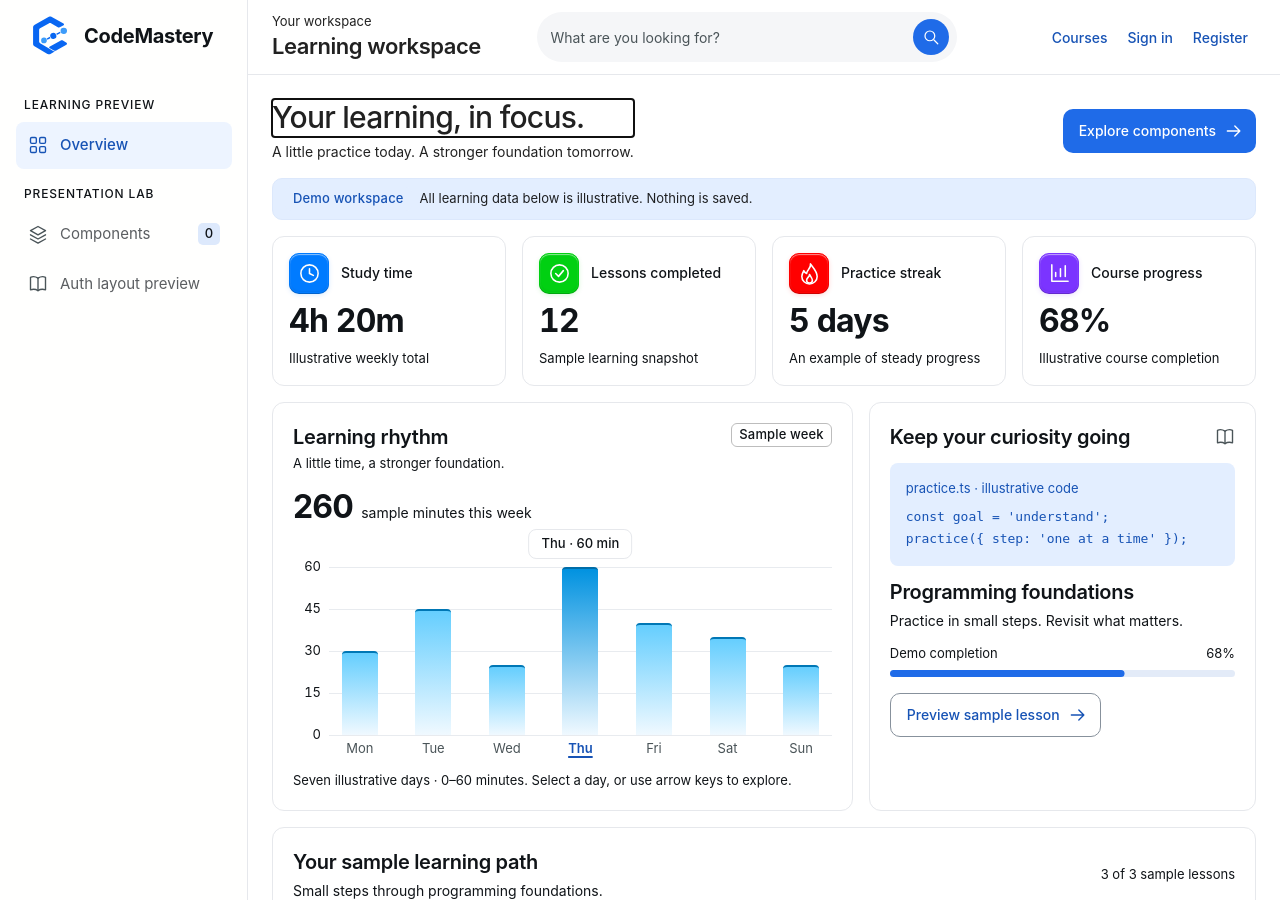
Scenario: real declarative routing and Profile › preserves current-main FE01 dashboard, formatter runtime and utilities as an independent preview
Click the button "Explore components".
click(1159, 131)  # box [1063,109,1256,153]
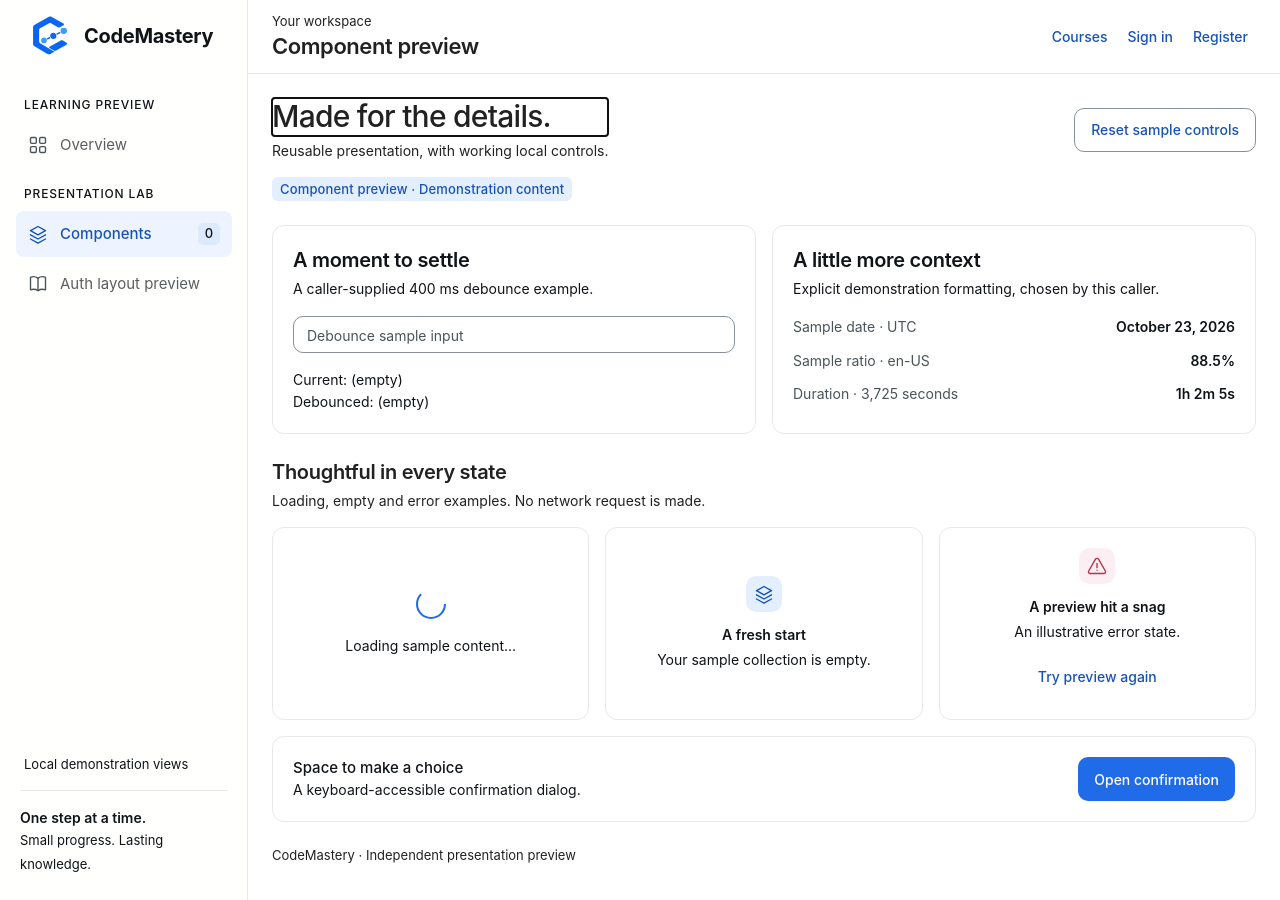
Expected: the text "October 23, 2026" is shown, [1116,316,1235,338]
Expected: the text "88.5%" is shown, [1190,352,1235,369]
Expected: the text "1h 2m 5s" is shown, [1176,385,1235,402]
Click the link "Sign in".
click(1150, 37)  # box [1128,28,1173,45]
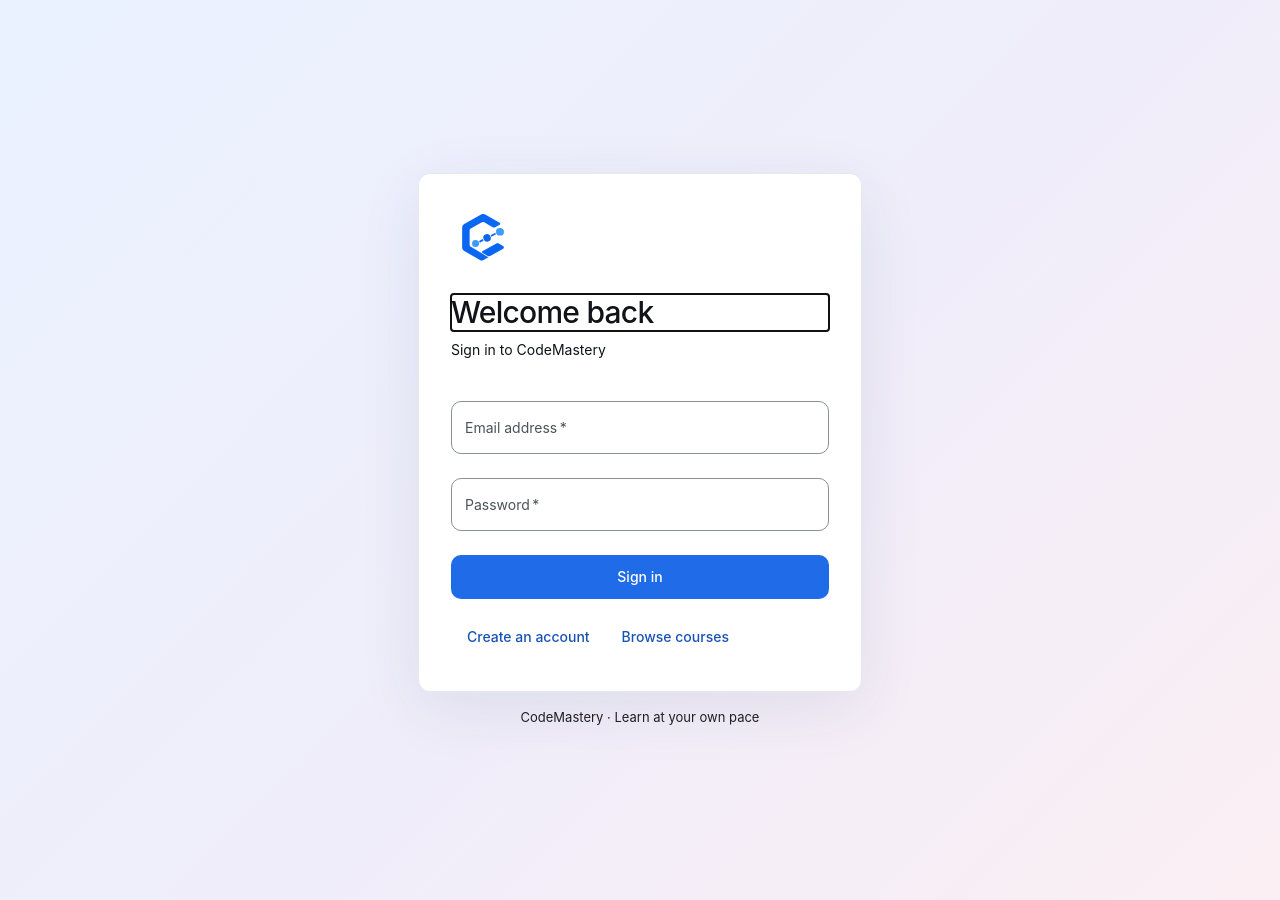
Expected: the heading "Welcome back" is shown, [451,294,653,330]
